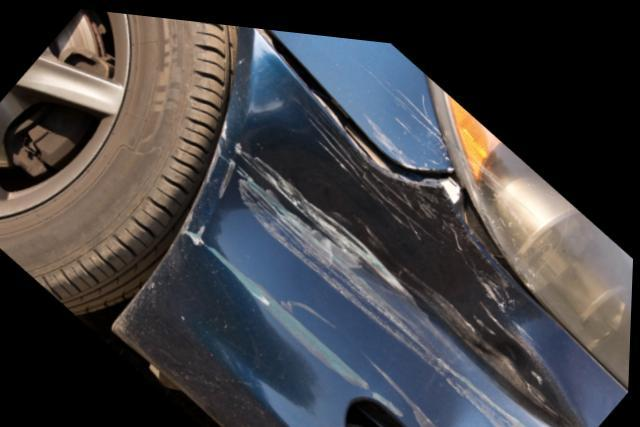dent: (179, 101, 587, 427)
dislocated part: (245, 21, 492, 235)
no part: (345, 387, 415, 427)
scratch: (359, 76, 456, 161)
